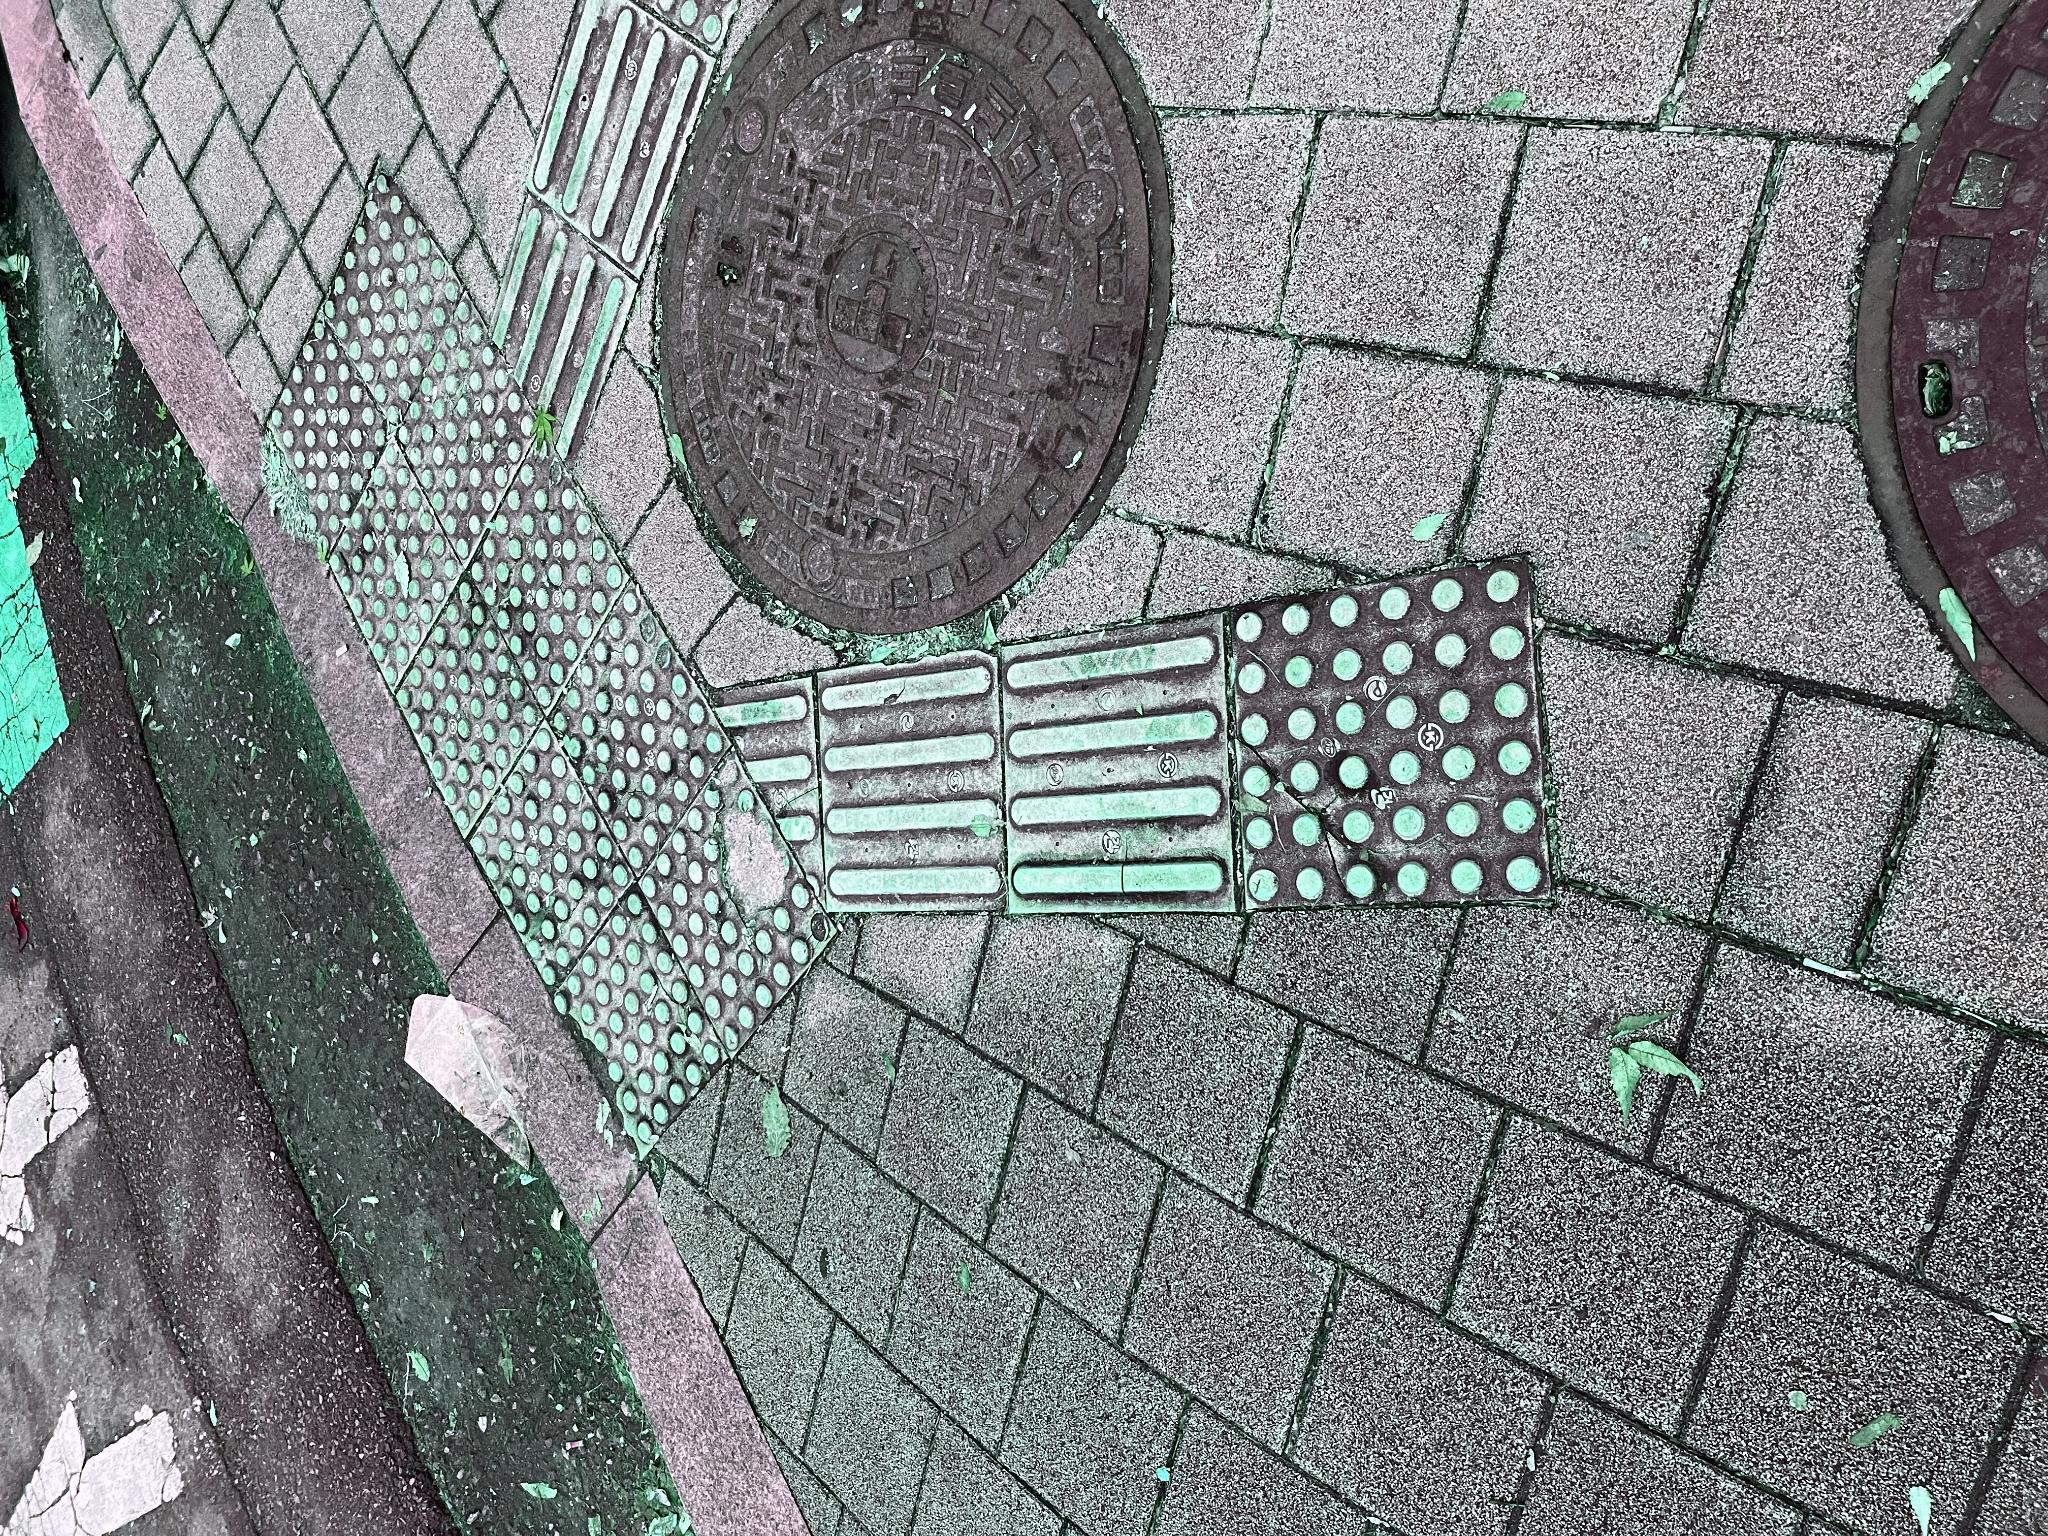Stop block broken: (477, 641, 787, 839)
Stop block normal: (660, 552, 955, 729), (969, 395, 1243, 539), (700, 397, 963, 541)
Straight block normal: (624, 1002, 921, 1234)
